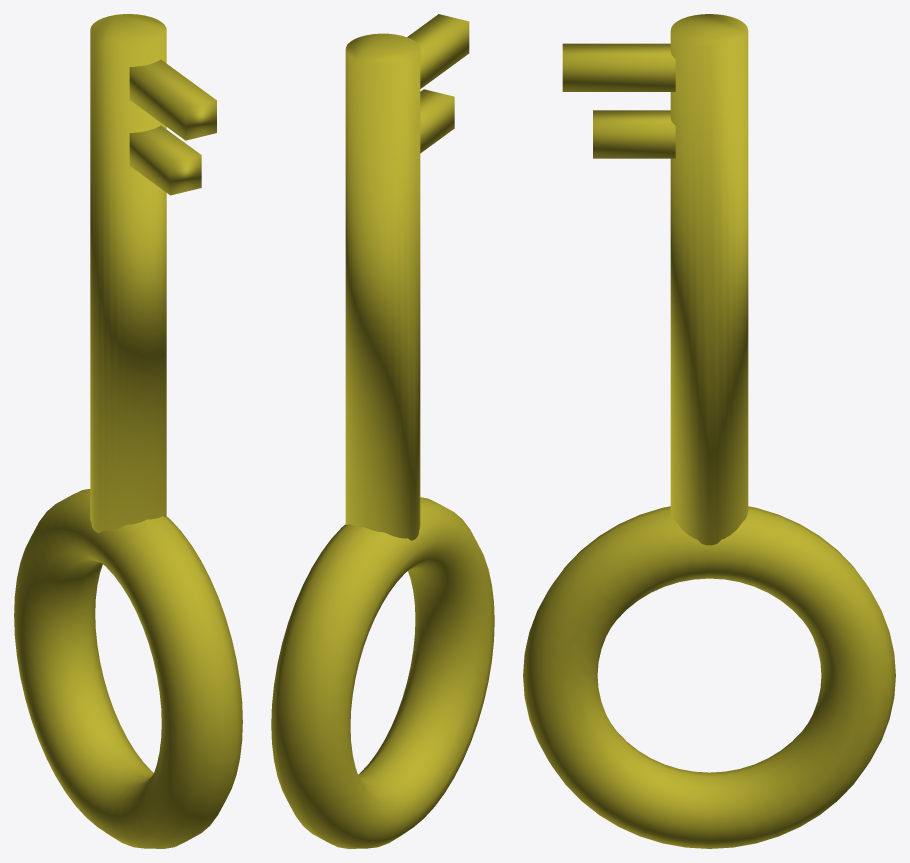
File: key 1.fbx
3 views of the same model, side by side, from view 1: azimuth 30°, elevation 25°; view 2: azimuth 150°, elevation 25°; view 3: azimuth 270°, elevation 25° (orthographic). The views are drawn at different scales.
Visible parts, largest first — view 1: Cube.001; view 2: Cube.001; view 3: Cube.001.
Boxes of the visible parts, x1,y1,x2,y2 form: Cube.001: (14,14,242,848); Cube.001: (271,14,494,848); Cube.001: (523,14,895,848).
Size of the model in its own units: 20.78 by 221 by 91.68.
